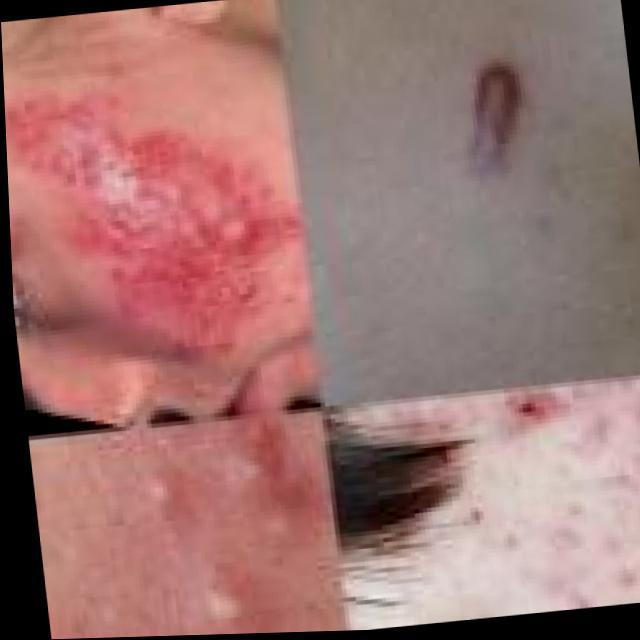cyst: (454, 70, 535, 163), (489, 390, 575, 431), (205, 578, 251, 620), (144, 471, 176, 512), (264, 513, 293, 551), (238, 450, 266, 483), (228, 218, 247, 258)
